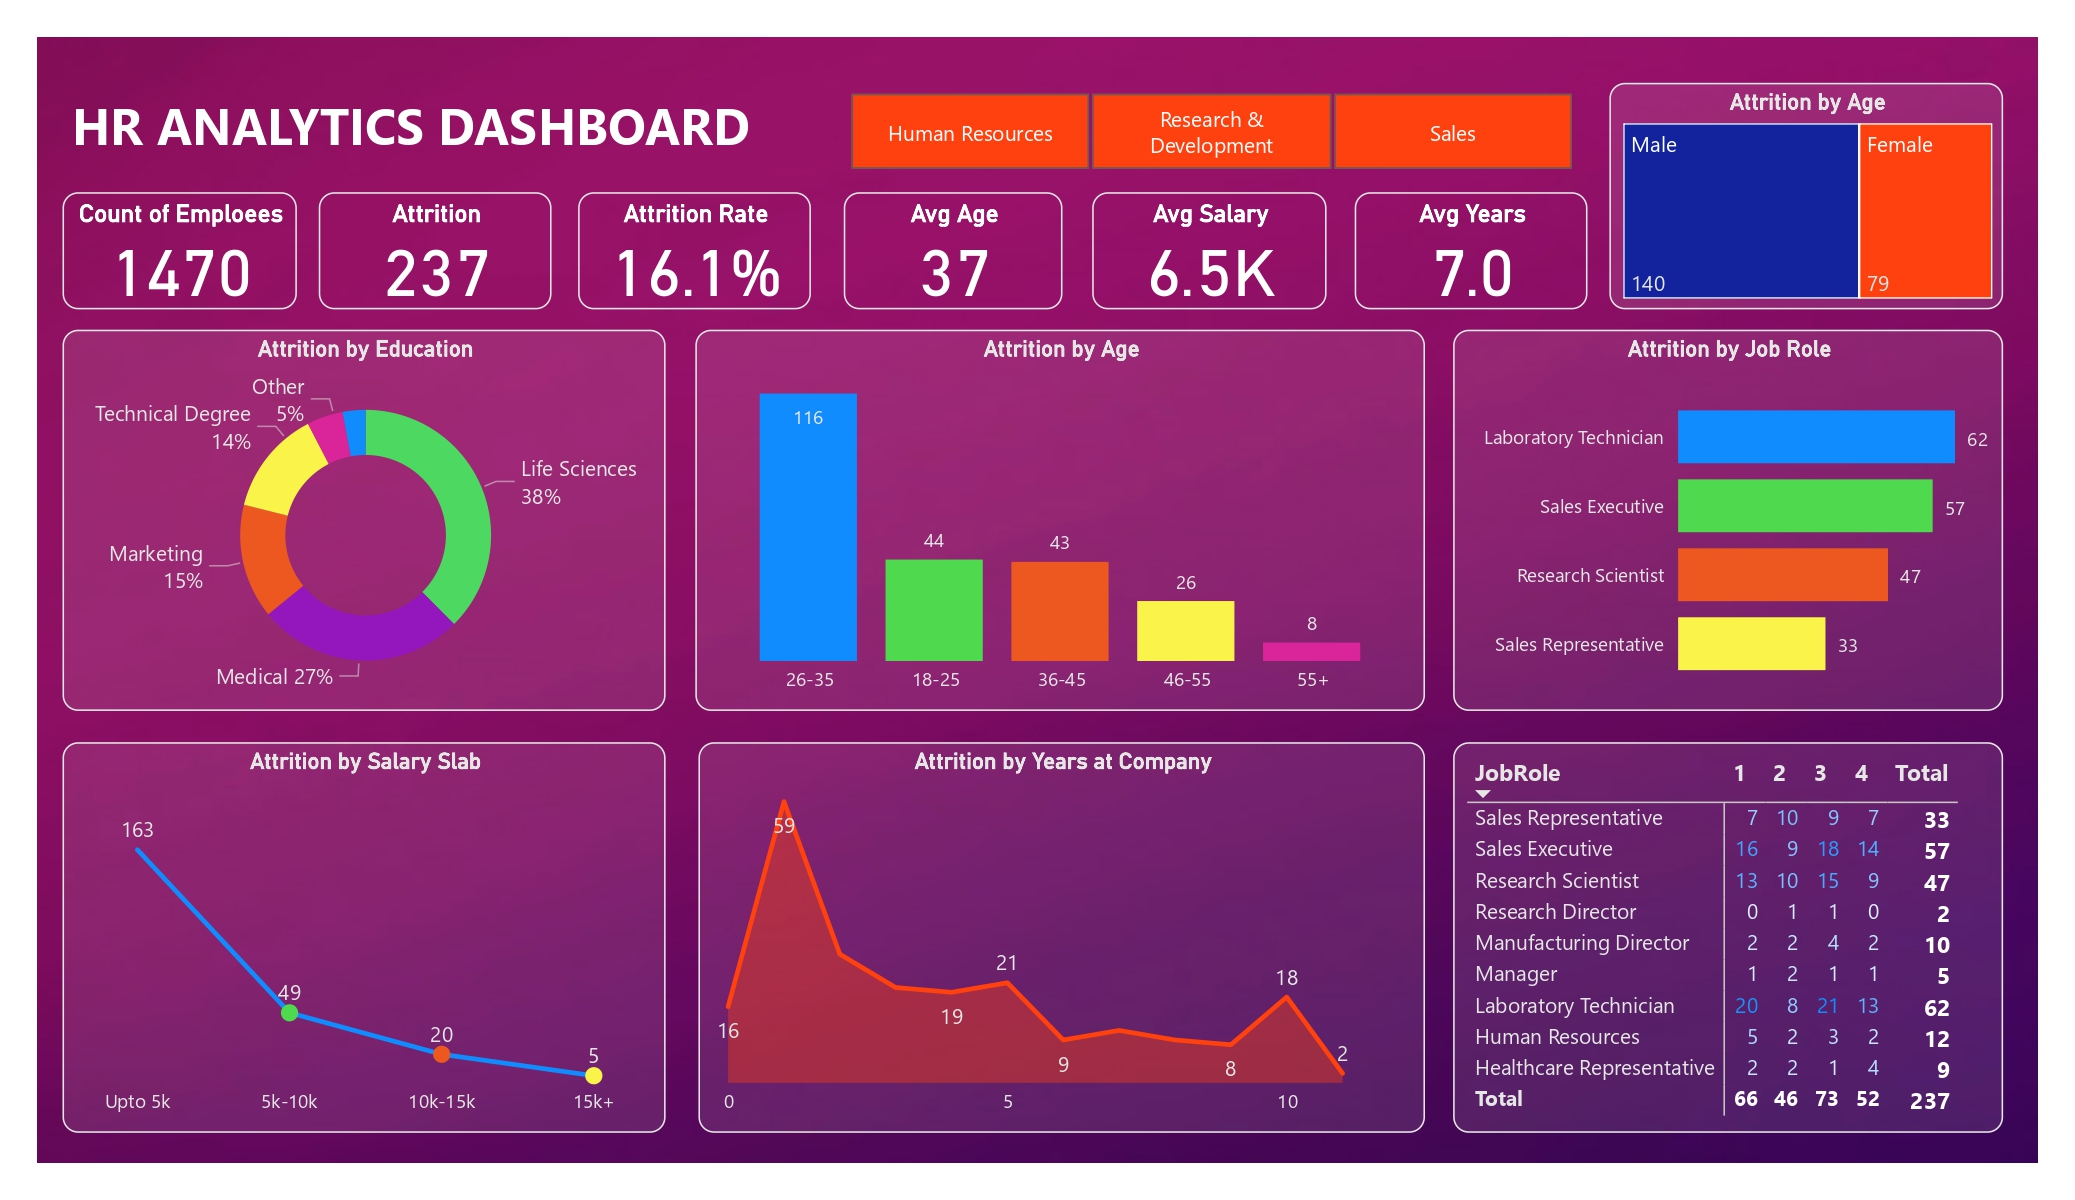

Layout of this report page (visuals, bound fields, positions):
{"tool":"powerbi","page":{"name":"Page 1","canvas":[1280,720],"ordinal":0},"visuals":[{"type":"card","title":"Count of Emploees","fields":{"Values":["Count(HR_Analytics.EmpID)"]},"box":[16.5,98.8,149.6,75.5],"z":0},{"type":"card","title":"Attrition","fields":{"Values":["Sum(HR_Analytics.AttritionCount)"]},"box":[179.8,98.8,149.6,75.5],"z":1000},{"type":"card","title":"Attrition Rate","fields":{"Values":["HR_Analytics.AttritionRate"]},"box":[345.8,98.8,149.6,75.5],"z":2000},{"type":"card","title":"Avg Age","fields":{"Values":["Avg(HR_Analytics.Age)"]},"box":[516,98.8,140,75.5],"z":3000},{"type":"card","title":"Avg Salary","fields":{"Values":["Avg(HR_Analytics.MonthlyIncome)"]},"box":[675.1,98.8,149.6,75.5],"z":4000},{"type":"card","title":"Avg Years","fields":{"Values":["Avg(HR_Analytics.YearsAtCompany)"]},"box":[842.5,98.8,149.6,75.5],"z":5000},{"type":"donutChart","title":"Attrition by Education","fields":{"Category":["HR_Analytics.EducationField"],"Y":["Sum(HR_Analytics.AttritionCount)"]},"box":[16.5,186.6,385.6,244.3],"z":6000},{"type":"columnChart","title":"Attrition by Age","fields":{"Category":["HR_Analytics.AgeGroup"],"Y":["Sum(HR_Analytics.AttritionCount)"]},"box":[421.3,186.6,466.6,244.3],"z":7000},{"type":"pivotTable","fields":{"Rows":["HR_Analytics.JobRole"],"Columns":["HR_Analytics.JobSatisfaction"],"Values":["Sum(HR_Analytics.AttritionCount)"]},"box":[905.7,451.5,352.7,249.7],"z":8000},{"type":"lineChart","title":"Attrition by Salary Slab","fields":{"Category":["HR_Analytics.SalarySlab"],"Y":["Sum(HR_Analytics.AttritionCount)"]},"box":[16.5,451.5,385.6,249.7],"z":8001},{"type":"clusteredBarChart","title":"Attrition by Job Role","fields":{"Category":["HR_Analytics.JobRole"],"Y":["Sum(HR_Analytics.AttritionCount)"]},"box":[905.7,186.6,352.7,244.3],"z":8002},{"type":"areaChart","title":"Attrition by Years at Company","fields":{"Category":["HR_Analytics.YearsAtCompany"],"Y":["Sum(HR_Analytics.AttritionCount)"]},"box":[422.6,451.5,465.2,249.7],"z":8003},{"type":"treemap","title":"Attrition by Age","fields":{"Group":["HR_Analytics.Gender"],"Values":["Sum(HR_Analytics.AttritionCount)"]},"box":[1005.8,28.8,252.5,145.5],"z":8004},{"type":"slicer","fields":{"Values":["HR_Analytics.Department"]},"box":[495.4,28.8,510.5,61.7],"z":8005},{"type":"textbox","box":[0,28.8,477.5,53.5],"z":8006}]}

Visuals, with their boxes in screenshot pixels (x1, y1, x2, y2):
"Count of Emploees" card: x1=0, y1=153, x2=221, y2=278
"Attrition" card: x1=244, y1=153, x2=492, y2=278
"Attrition Rate" card: x1=519, y1=153, x2=767, y2=278
"Avg Age" card: x1=801, y1=153, x2=1033, y2=278
"Avg Salary" card: x1=1065, y1=153, x2=1313, y2=278
"Avg Years" card: x1=1342, y1=153, x2=1590, y2=278
"Attrition by Education" donutChart: x1=0, y1=298, x2=612, y2=703
"Attrition by Age" columnChart: x1=644, y1=298, x2=1418, y2=703
pivotTable - HR_Analytics.JobRole x HR_Analytics.JobSatisfaction: x1=1447, y1=738, x2=2032, y2=1151
"Attrition by Salary Slab" lineChart: x1=0, y1=738, x2=612, y2=1151
"Attrition by Job Role" clusteredBarChart: x1=1447, y1=298, x2=2032, y2=703
"Attrition by Years at Company" areaChart: x1=646, y1=738, x2=1417, y2=1151
"Attrition by Age" treemap: x1=1613, y1=37, x2=2032, y2=278
slicer - HR_Analytics.Department: x1=767, y1=37, x2=1613, y2=139
textbox: x1=0, y1=37, x2=737, y2=126
